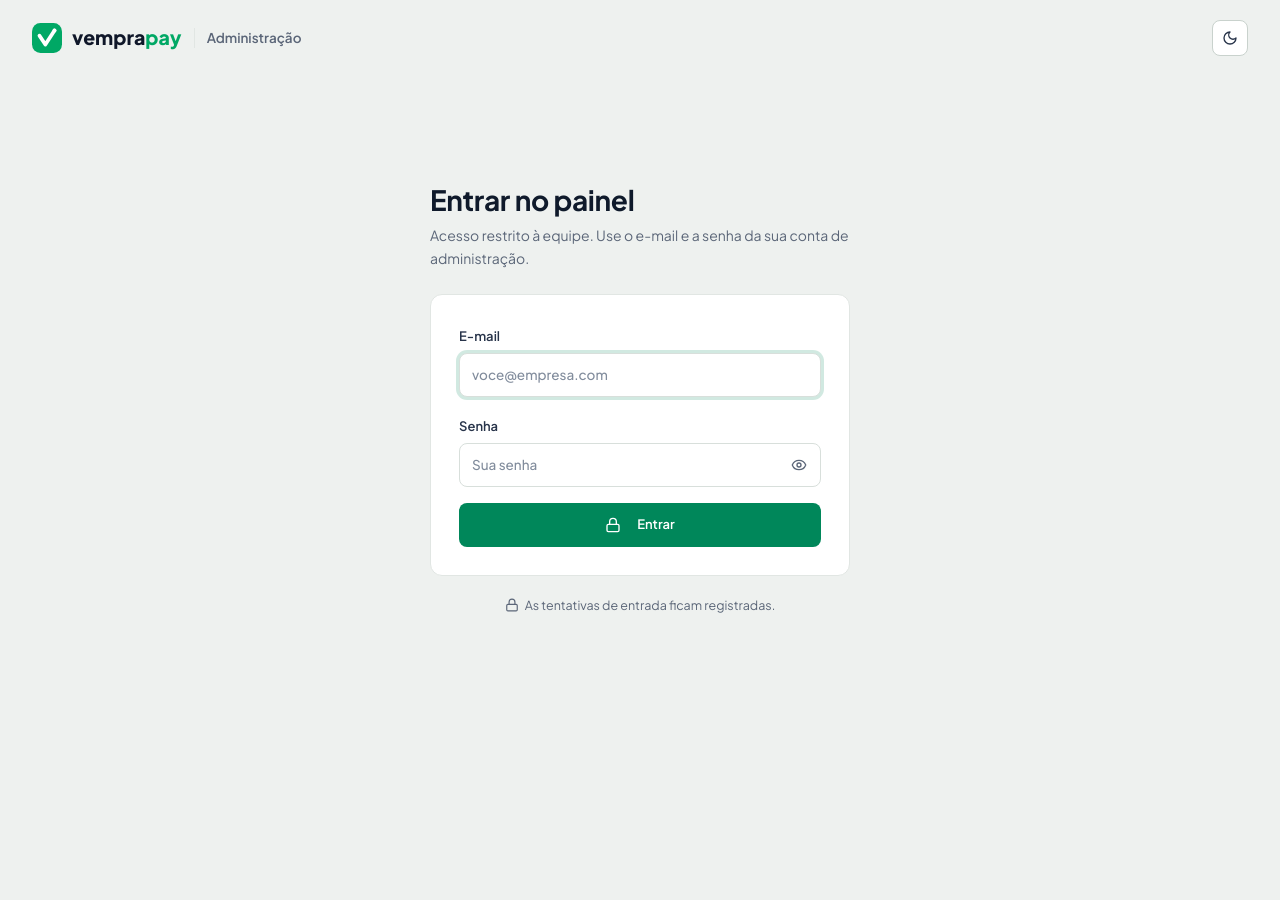
Test: Tela de login do admin › etapa do código (quando o servidor pedir): confirma e volta para a senha se o desafio acabou
In the field labelled "E-mail": (640, 375) x1=459 y1=353 x2=821 y2=397, type "equipe@empresa.com"
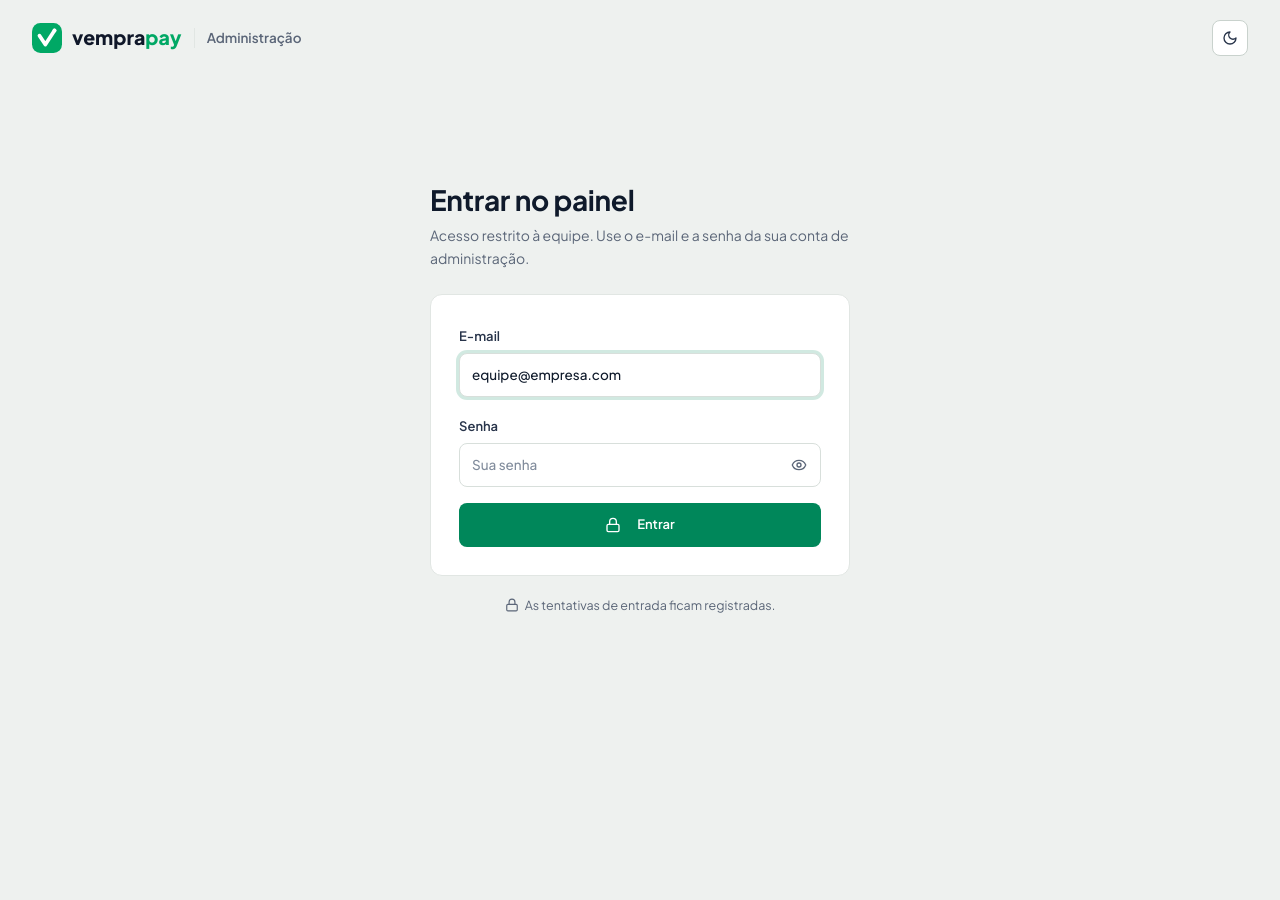
In the password field labelled "Senha": (640, 465) x1=459 y1=443 x2=821 y2=487, type "segredo1"
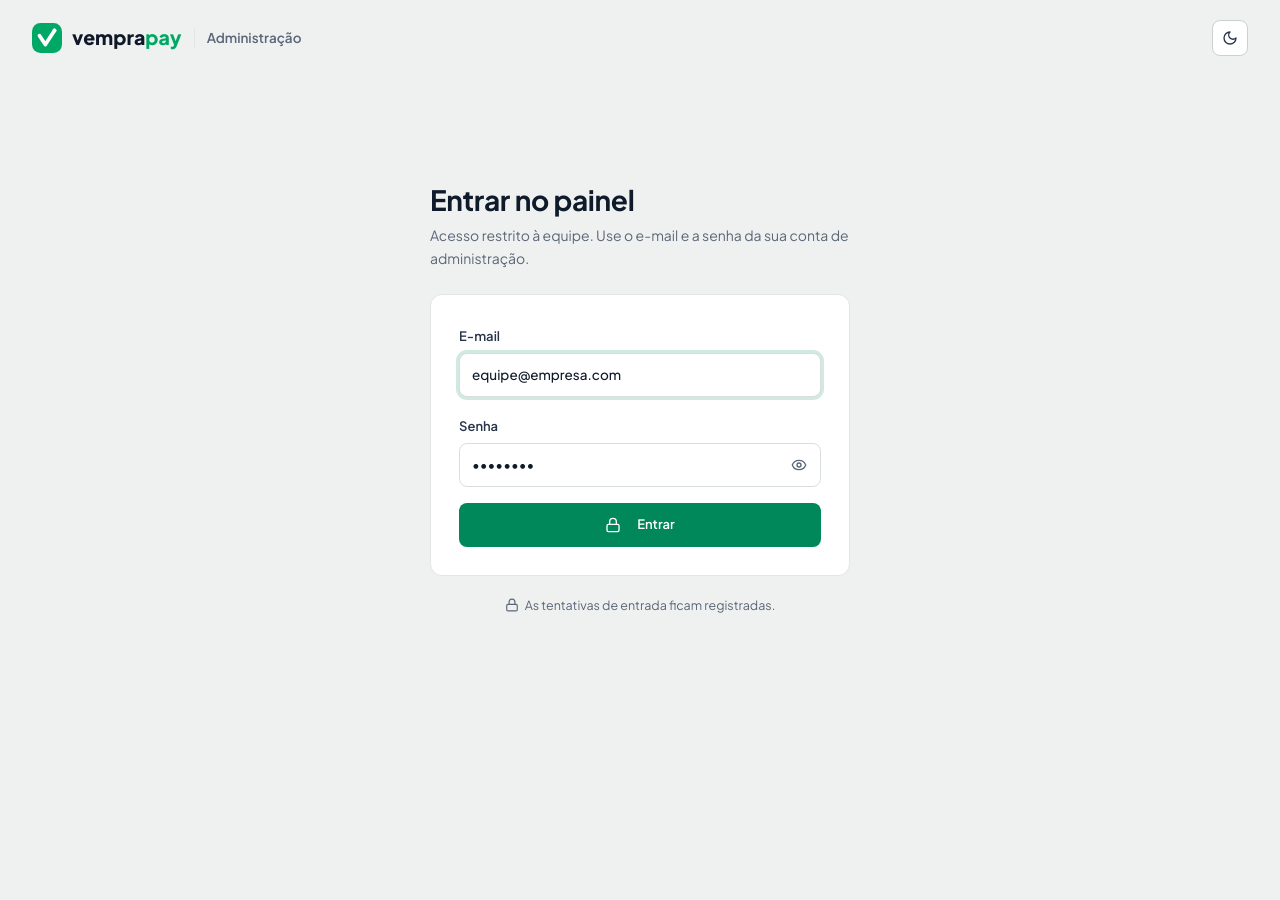
Click the button "Entrar": (640, 525) x1=459 y1=503 x2=821 y2=547
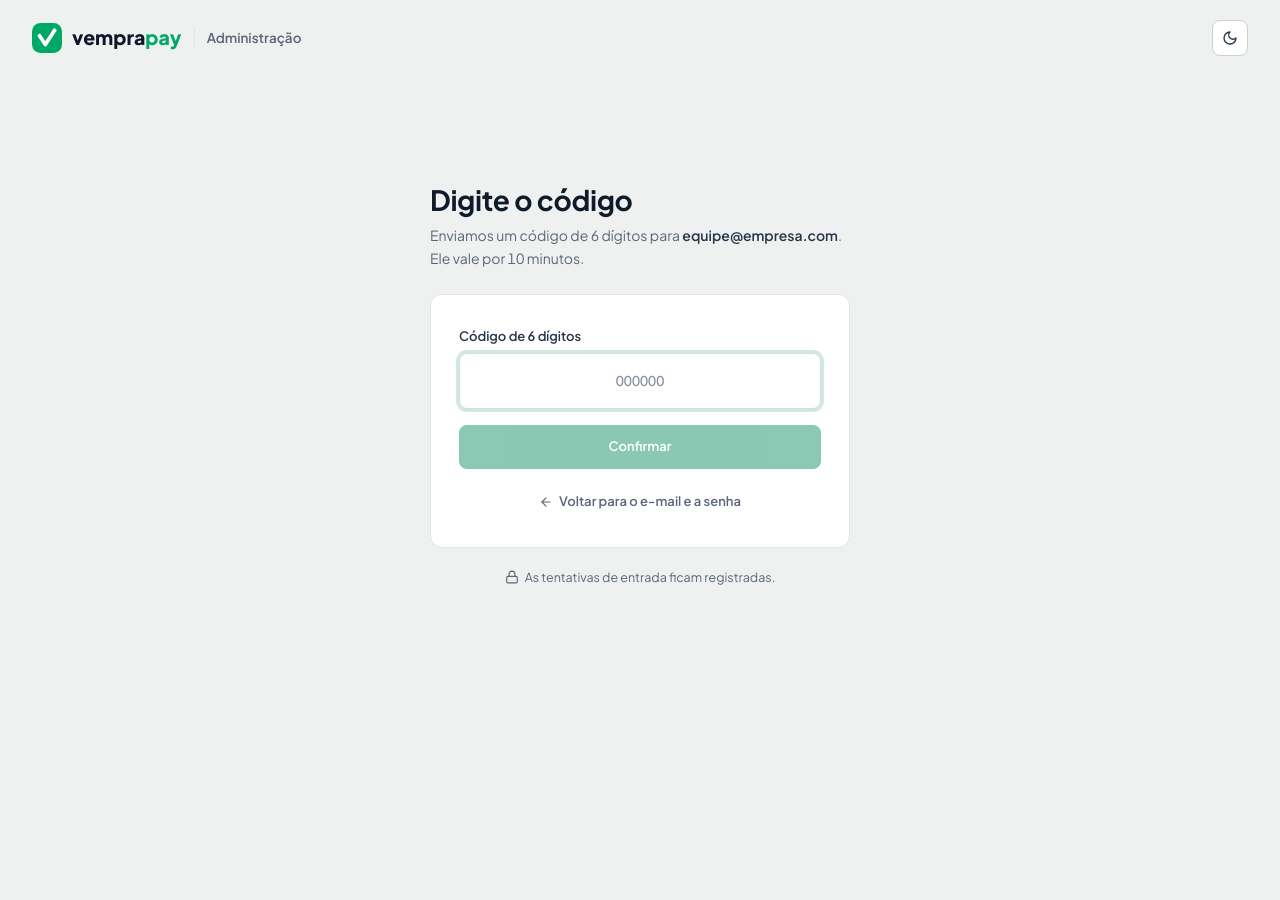
In the field labelled "Código de 6 dígitos": (640, 381) x1=459 y1=353 x2=821 y2=409, type "12a3456"
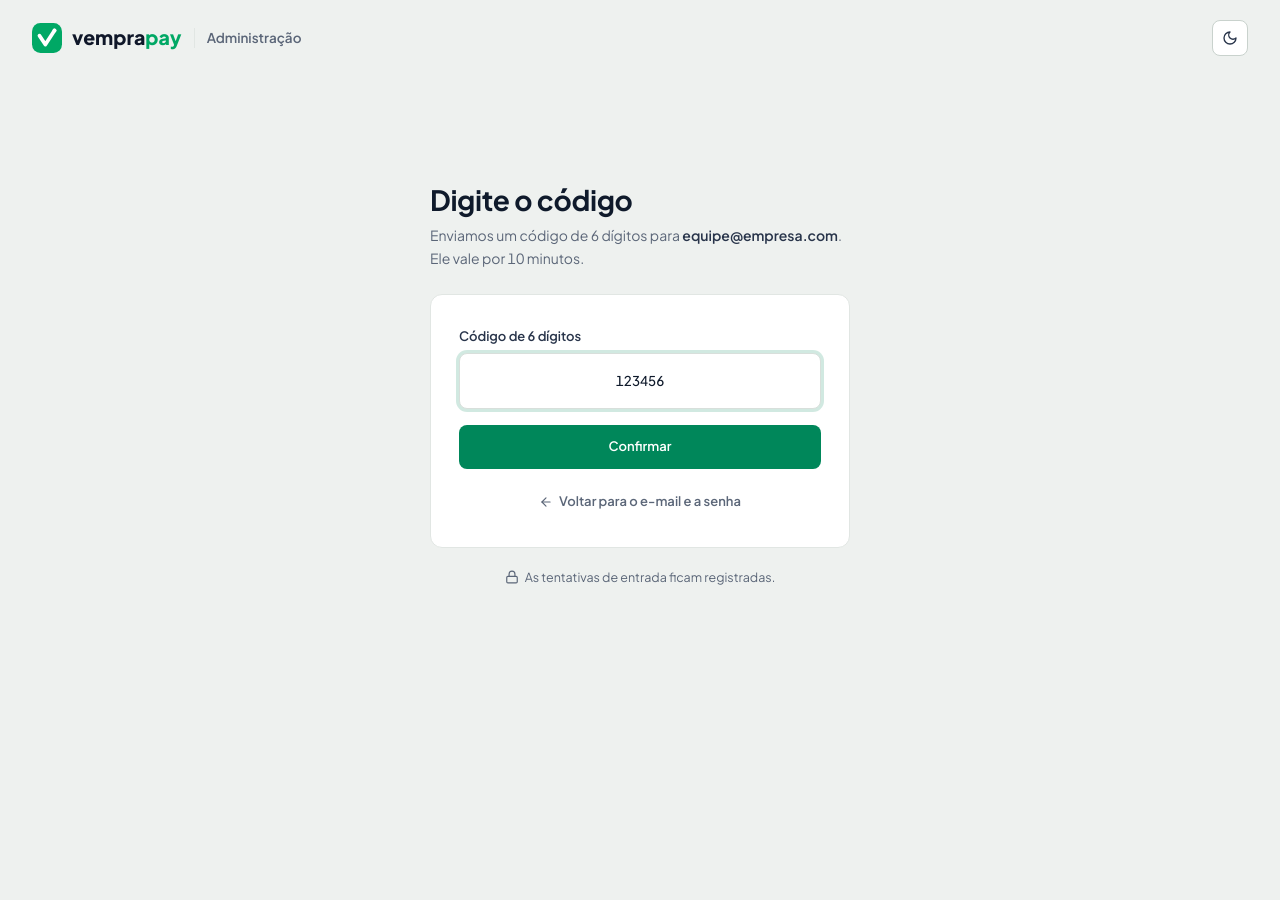
Now the field labelled "Código de 6 dígitos" holds "123456", box x1=459 y1=353 x2=821 y2=409
Click the button "Confirmar": (640, 447) x1=459 y1=425 x2=821 y2=469
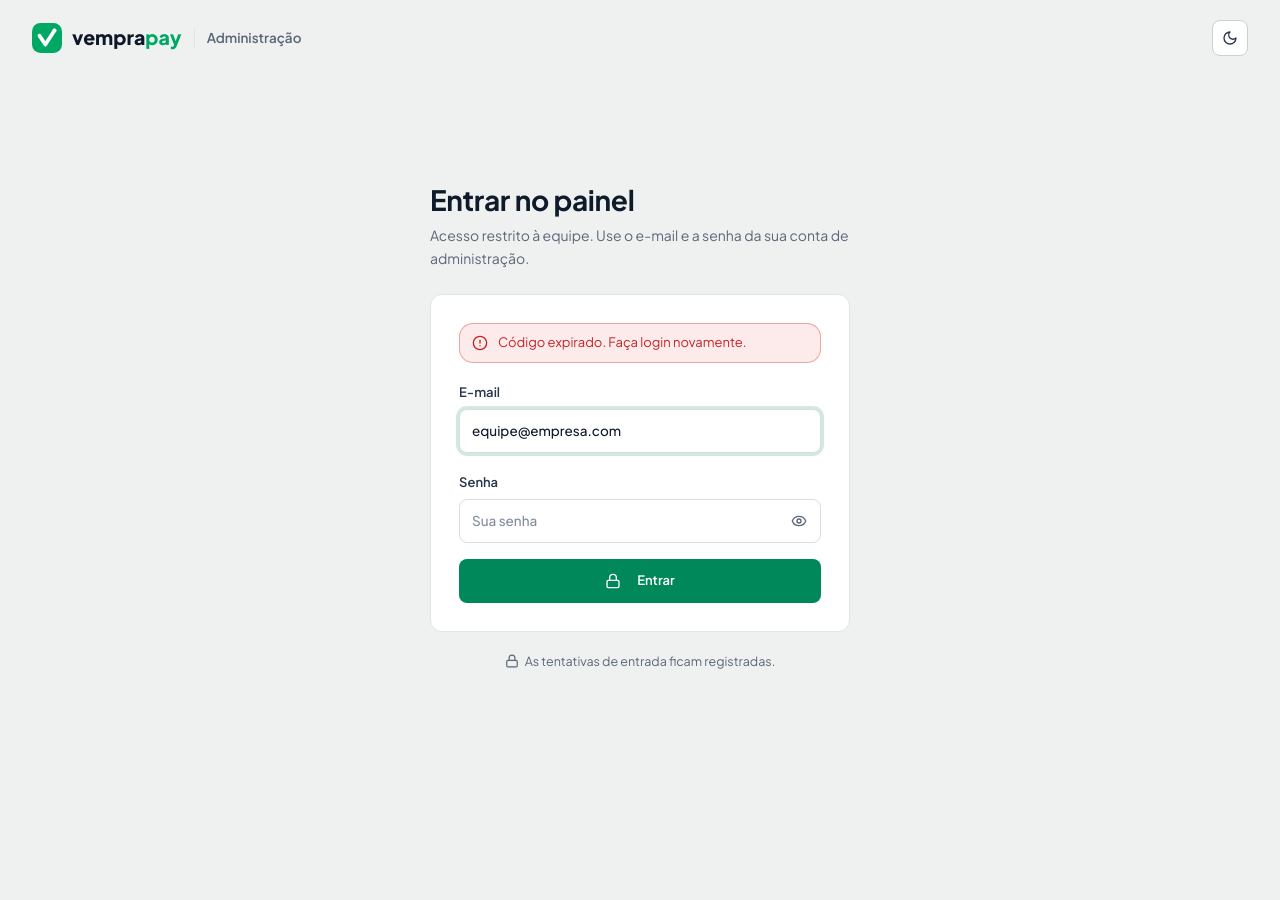
Now the message shows "Código expirado", box x1=498 y1=334 x2=746 y2=350
Now the password field labelled "Senha" is shown, box x1=459 y1=499 x2=821 y2=543
